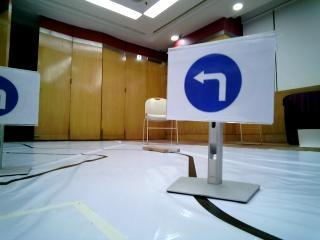left: (175, 46, 266, 121), (235, 177, 235, 177)
